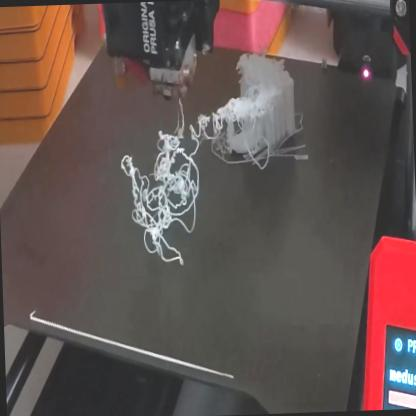fail: (120, 104, 228, 276), (223, 90, 267, 144)
